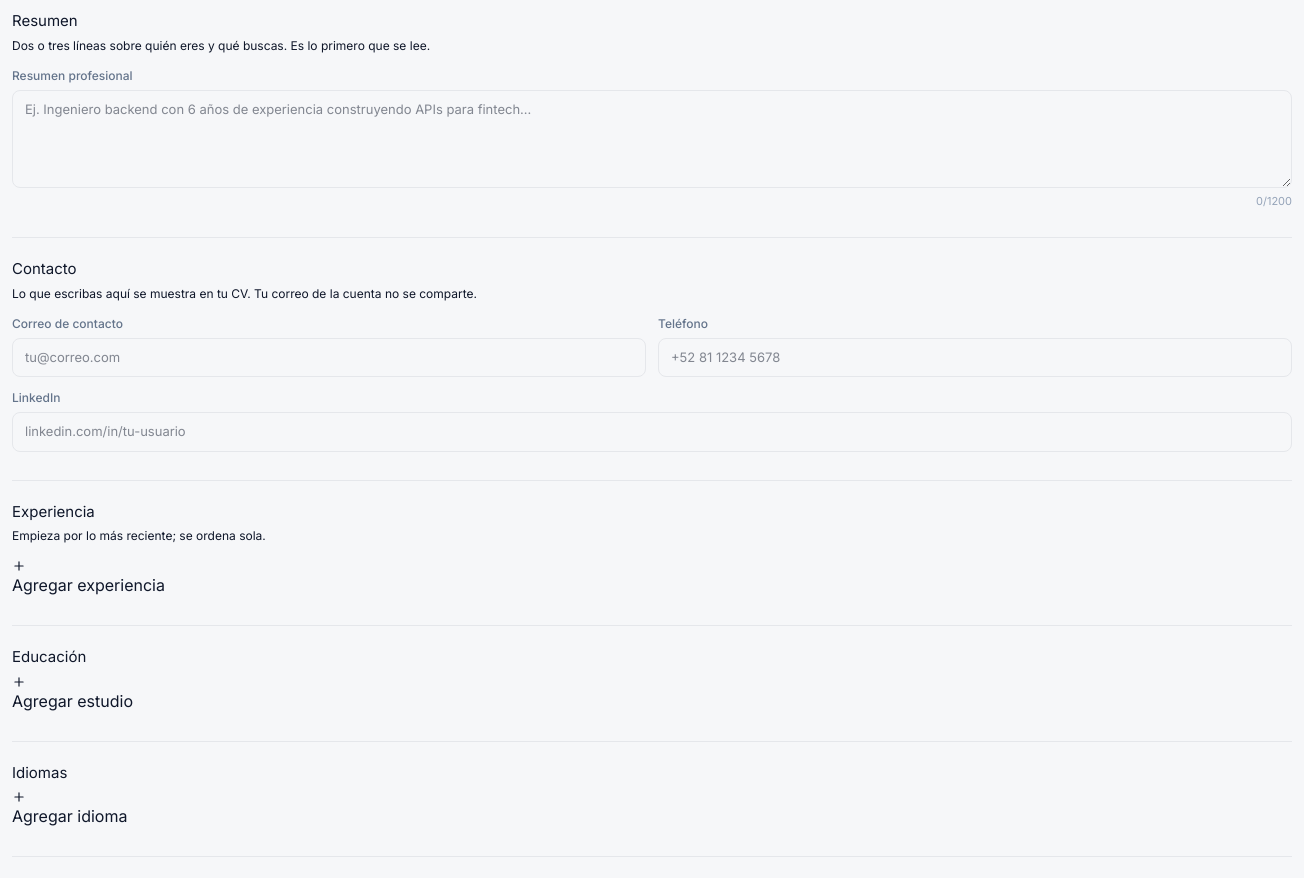
CvSettings form › saves the CV with the session token, to the right place, private by default
Replace the text in the text box labelled "Resumen profesional" with "Hola": (652,138) [12,90,1292,188]
(page scrolled)
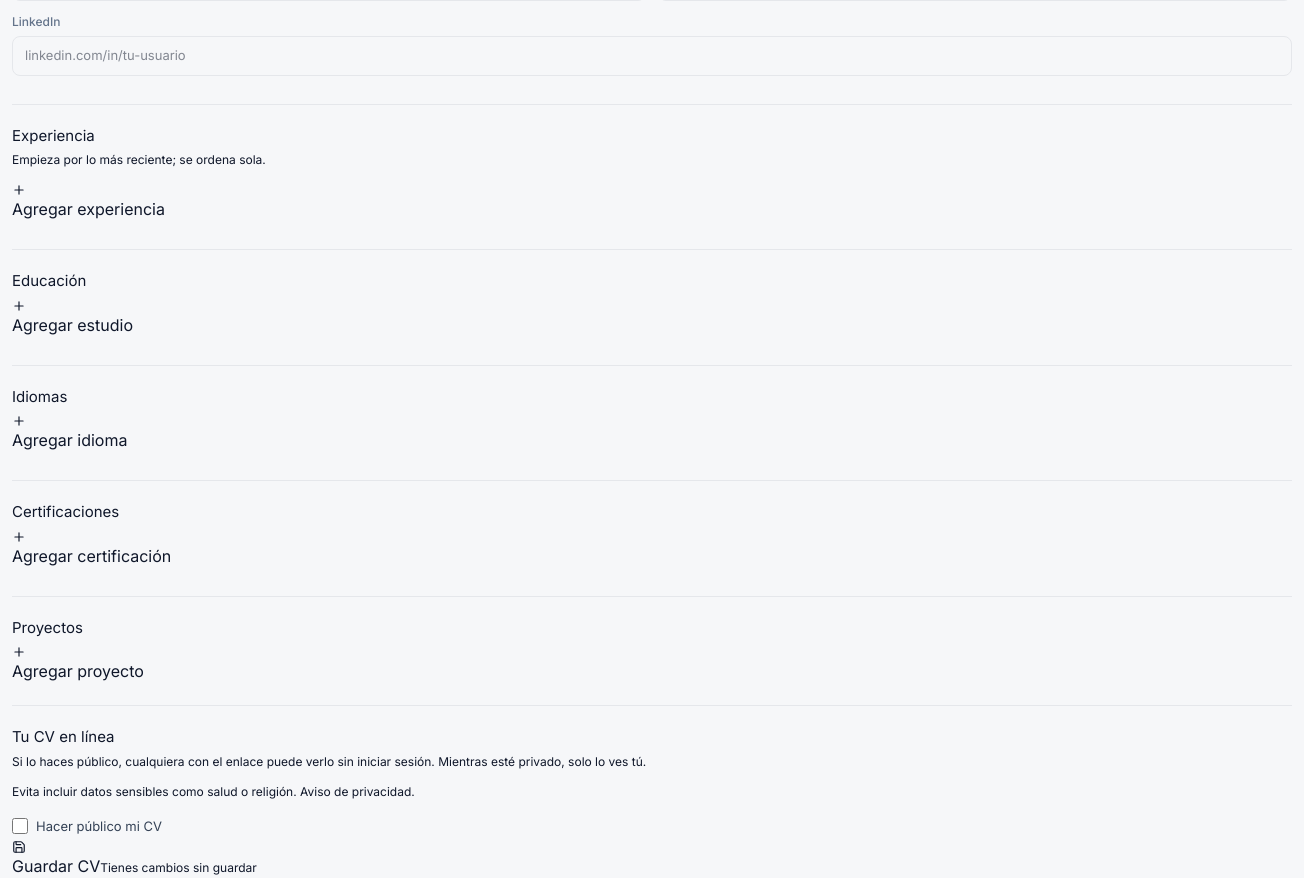
Click the button "Guardar CV": (56,859) [12,840,100,877]
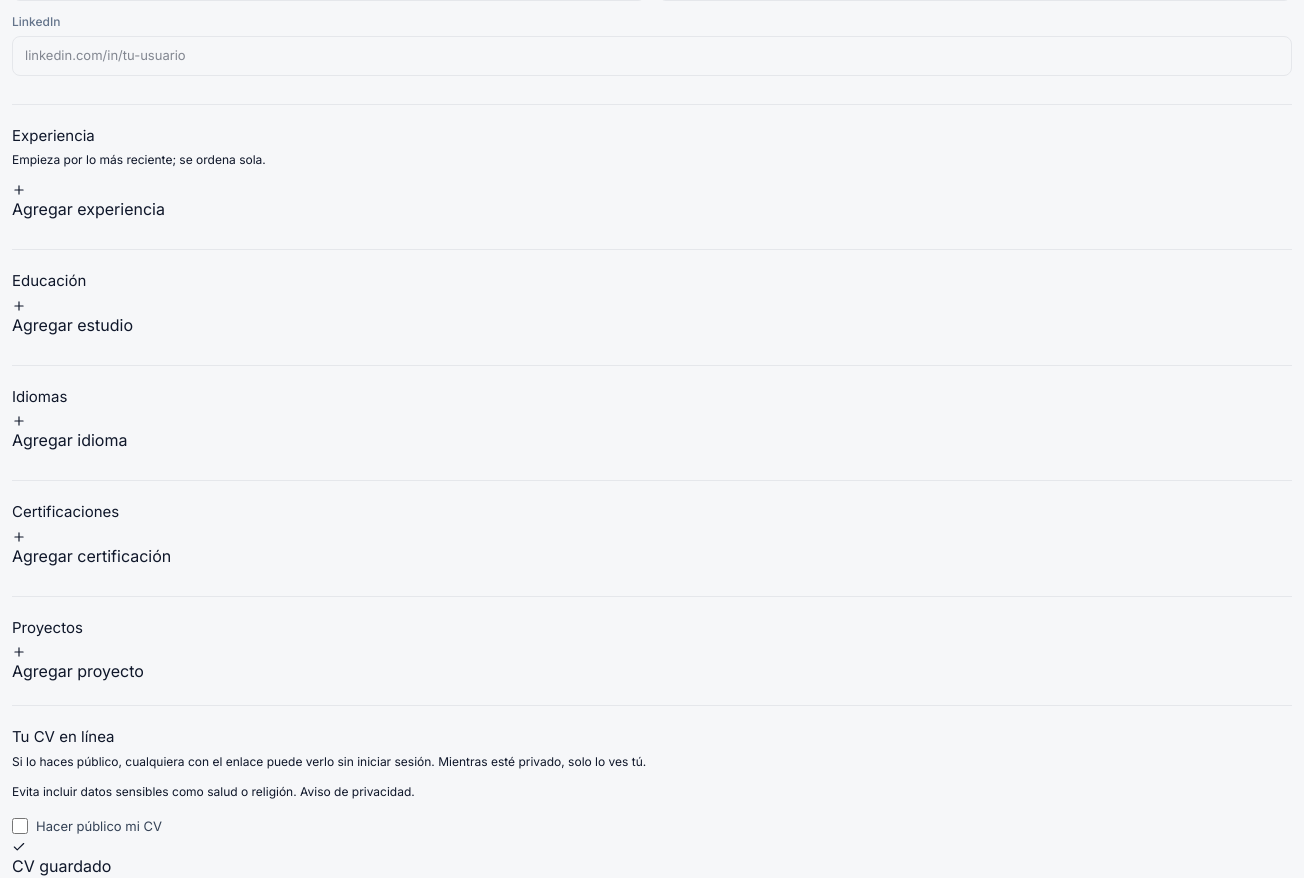
Expected: the button "CV guardado" is shown, [12,840,111,877]
Expected: the text "cambios sin guardar" is gone
